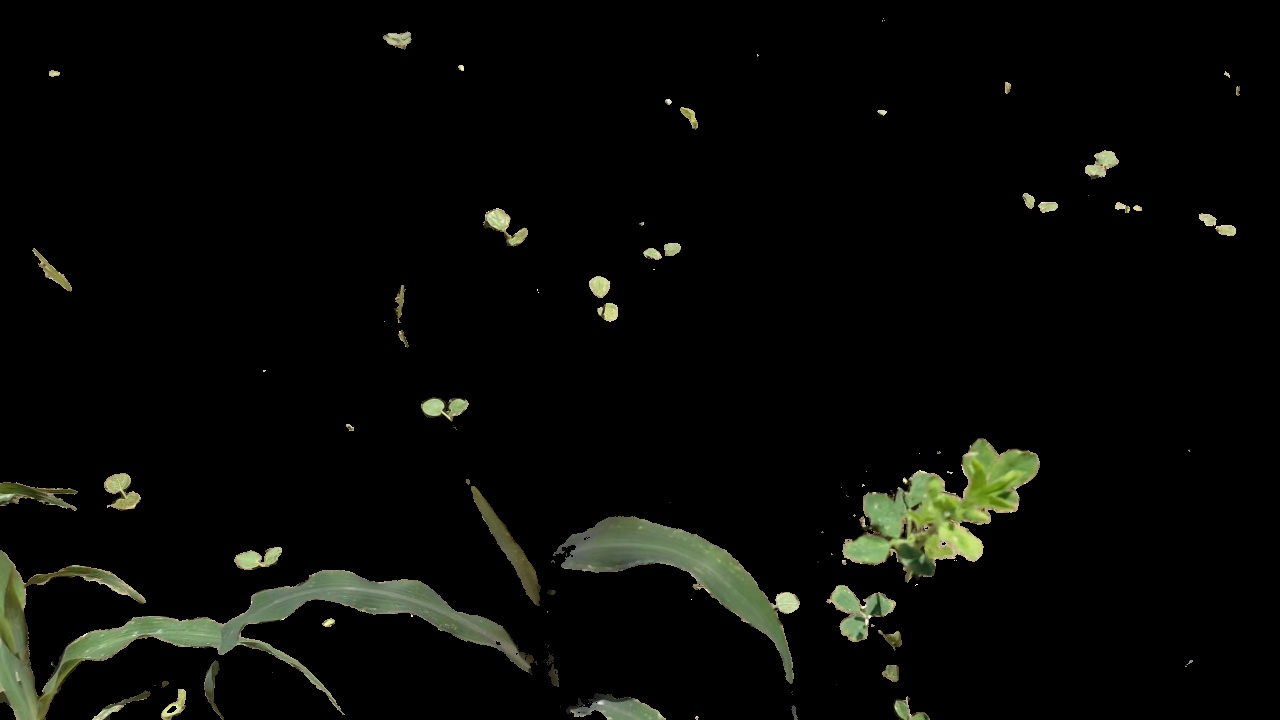crop: (204, 483, 803, 720), (3, 472, 342, 720)
weed: (847, 422, 1082, 571), (827, 582, 941, 720), (99, 460, 151, 516), (476, 205, 536, 248), (414, 396, 483, 427), (579, 273, 621, 318), (624, 235, 691, 263), (227, 542, 291, 569), (1017, 180, 1062, 217), (1199, 209, 1247, 240), (1083, 144, 1119, 181)
